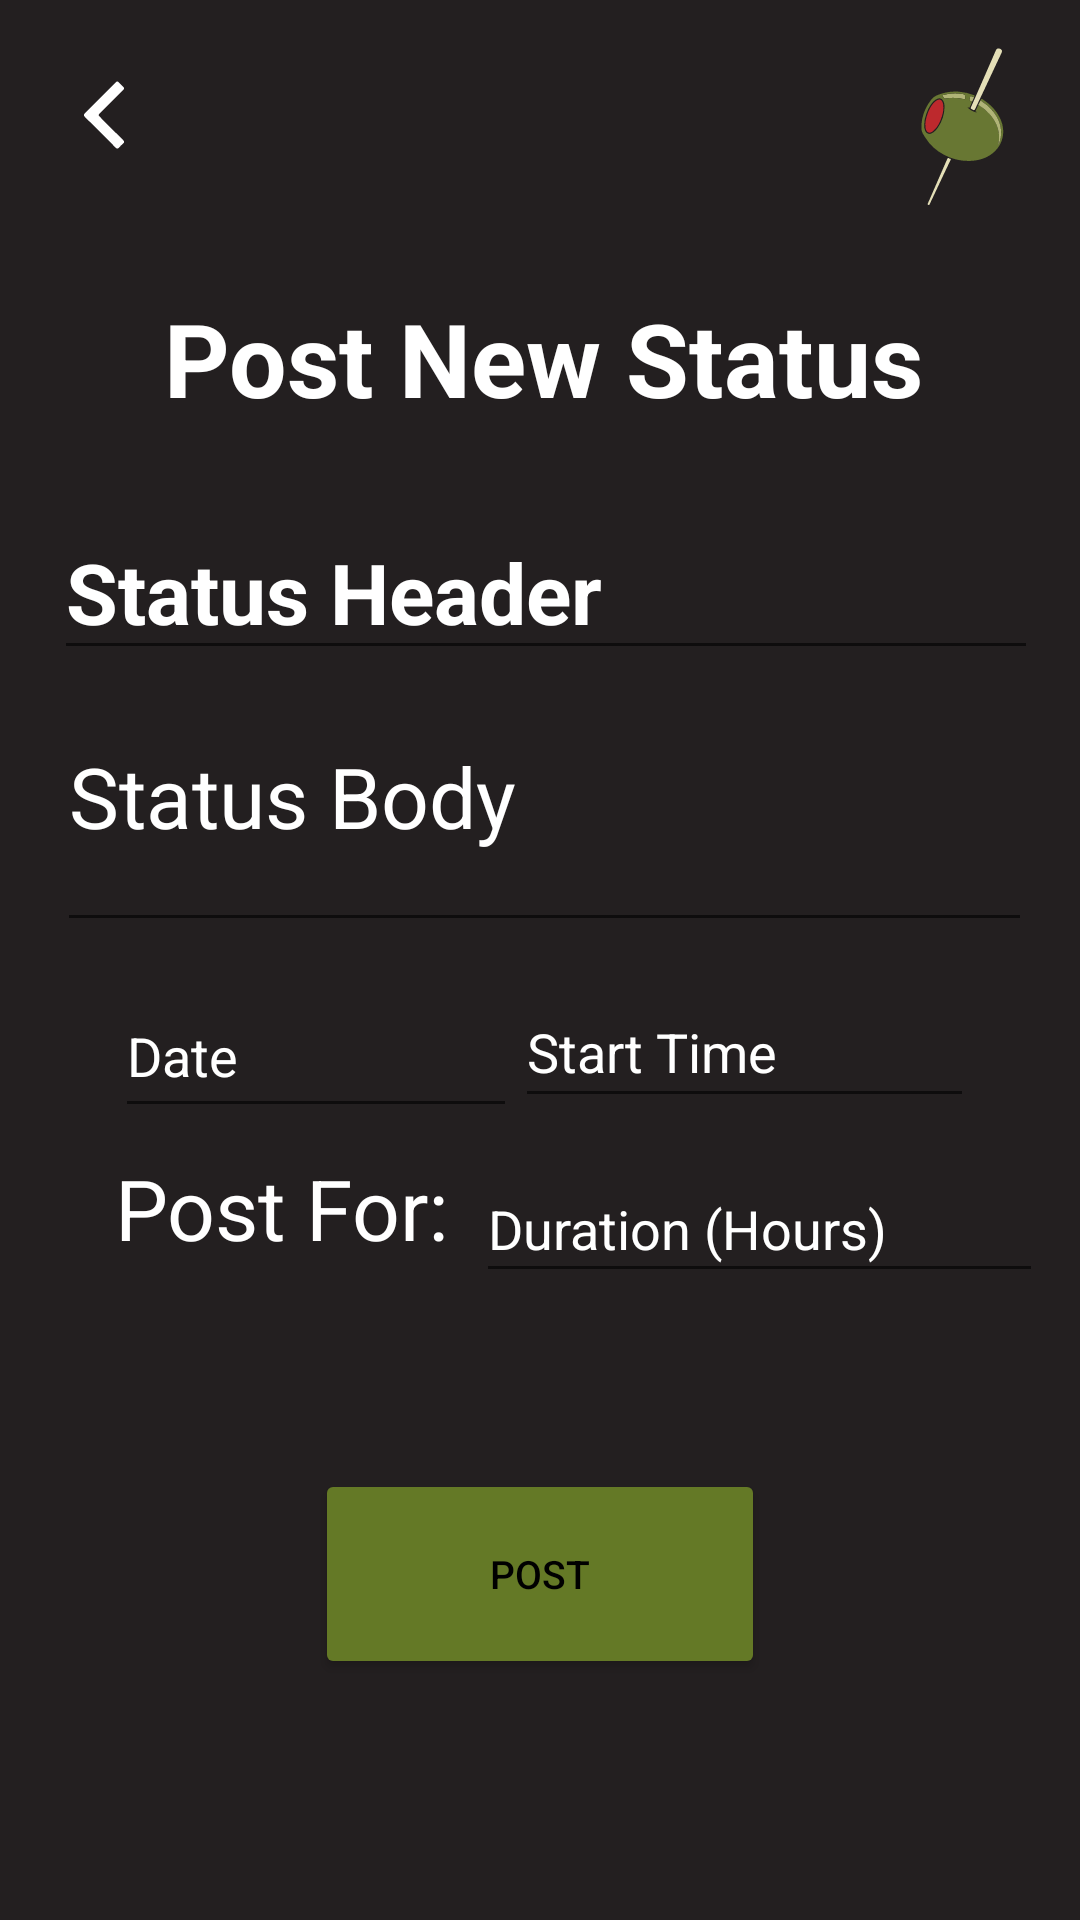

Locate icon controls on the screen. Image size 1080px×1920px, boxes as (left=x1, top=y1, right=x2, bottom=y2).
back: (left=84, top=81, right=124, bottom=149)
